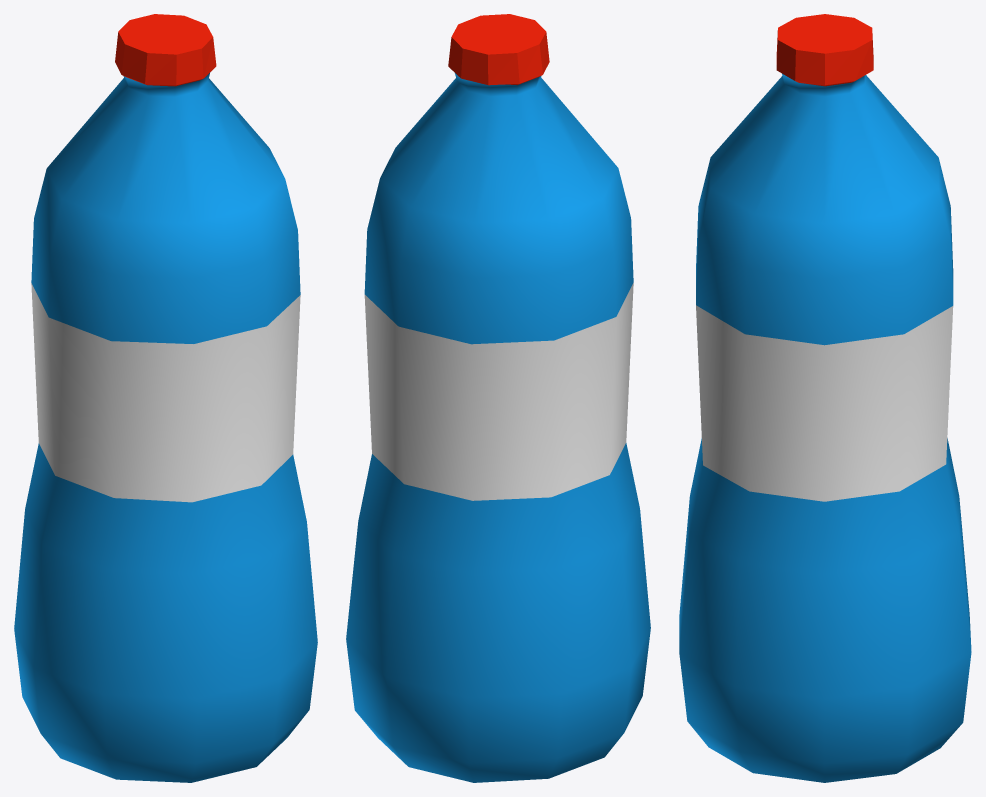
The model's file is botella.FBX.
The picture shows the model from 3 angles, left to right: view 1: azimuth 30°, elevation 25°; view 2: azimuth 150°, elevation 25°; view 3: azimuth 270°, elevation 25°; orthographic projection.
Parts seen in each view (by area): view 1: Cylinder001; view 2: Cylinder001; view 3: Cylinder001.
Part boxes in pixels (box(x1,y1,x2,y2)): Cylinder001: box(14, 14, 317, 782); Cylinder001: box(346, 14, 650, 782); Cylinder001: box(679, 14, 971, 782).
Bounding box in the file's own units: 5.87 × 14.83 × 5.62.
